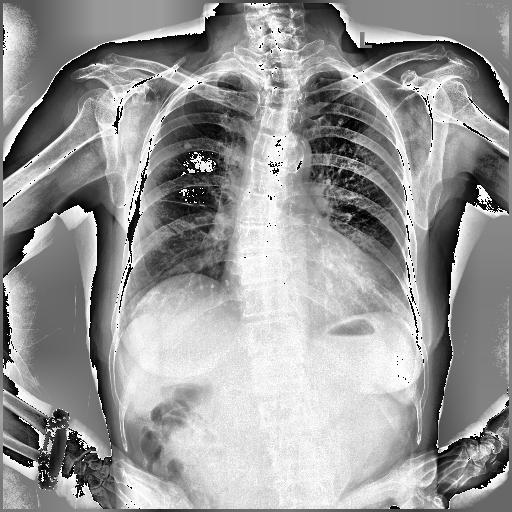0- Aortic enlargement: (268, 130, 312, 180), (272, 133, 311, 175)
11- Pleural thickening: (332, 64, 368, 90), (200, 69, 246, 78)
13- Pulmonary fibrosis: (158, 198, 215, 209), (182, 140, 192, 150)
2- Calcification: (294, 138, 306, 172)
3- Cardiomegaly: (219, 229, 403, 320), (221, 248, 402, 319), (220, 268, 396, 296)
8- Nodule-Mass: (182, 142, 192, 150)
9- Other lesion: (227, 62, 289, 300), (183, 142, 193, 152)
